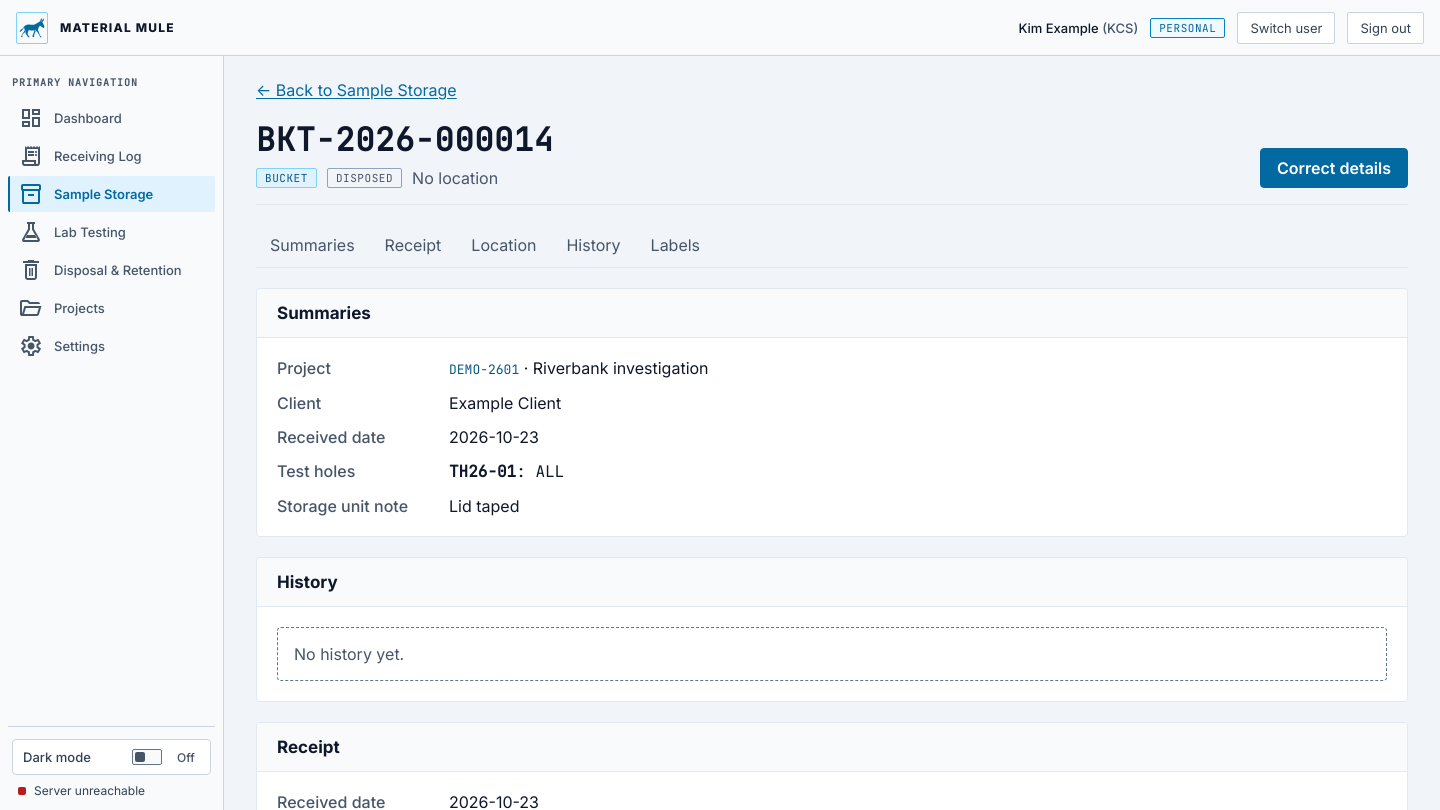
Test: storage unit corrections (MM-T13) › BUG-014: a disposed unit offers only its received date and note
Click the button "Correct details". click: (1334, 168)
box: [1260,148,1408,188]
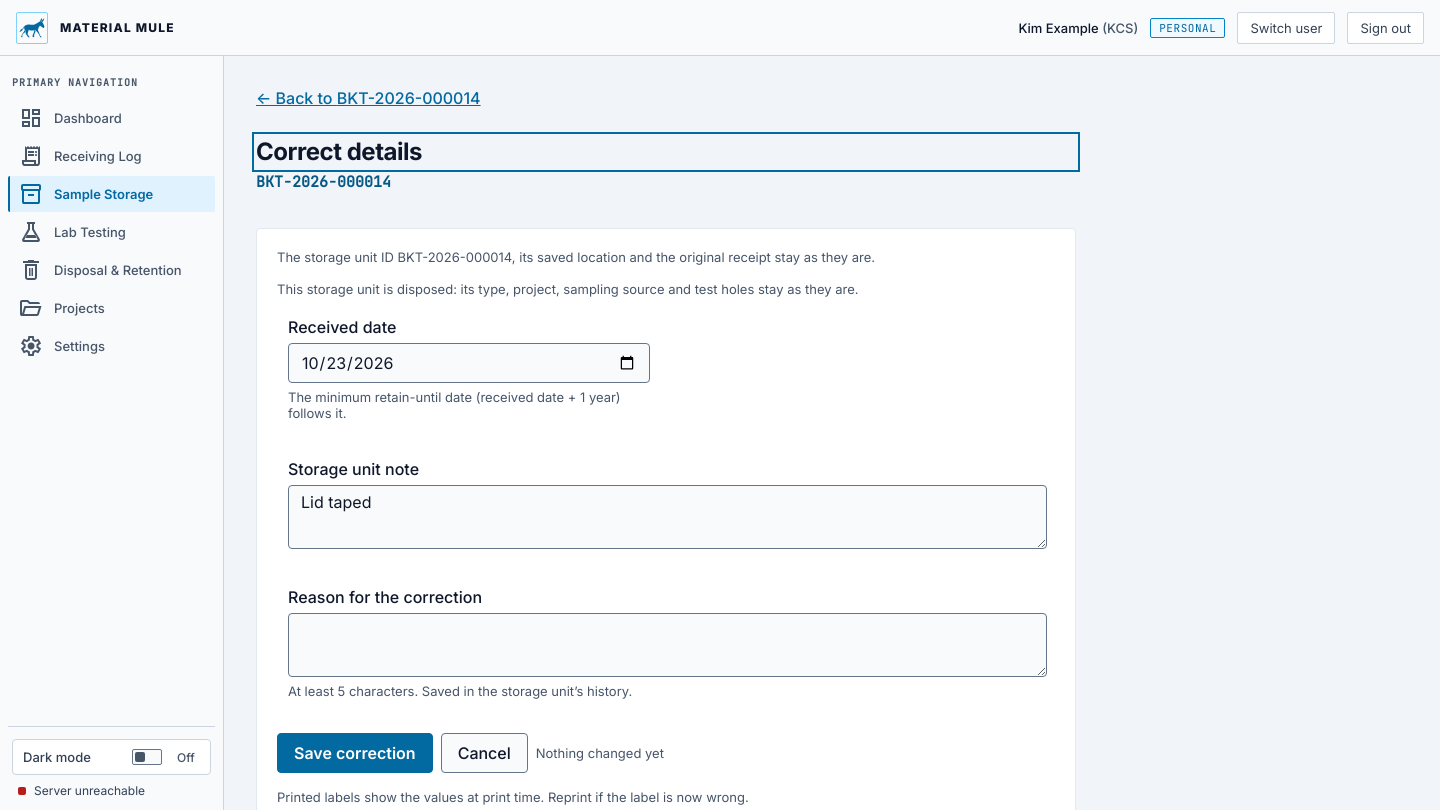
Expected: the text "This storage unit is disposed: its type, project, sampling source and test holes stay as they are." is shown, [277,281,858,297]
Expected: the date field labelled "Received date" is shown, [288,343,650,383]
Replace the text in the text box labelled "Storage unit note" with "Lid replaced". click: (668, 517)
box: [288,485,1047,549]
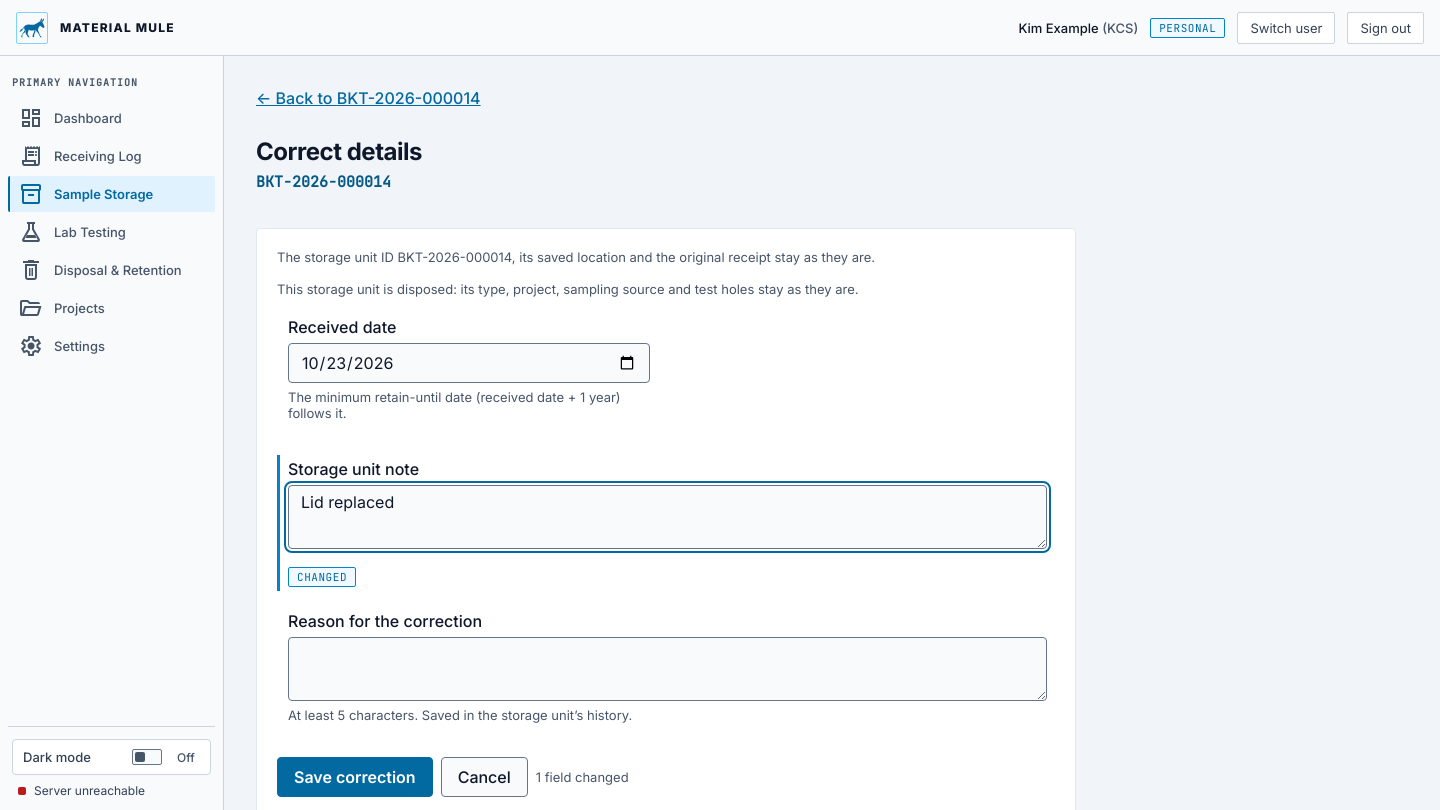
Type "lid was swapped" into the text box labelled "Reason for the correction". click: (668, 669)
box: [288,637,1047,701]
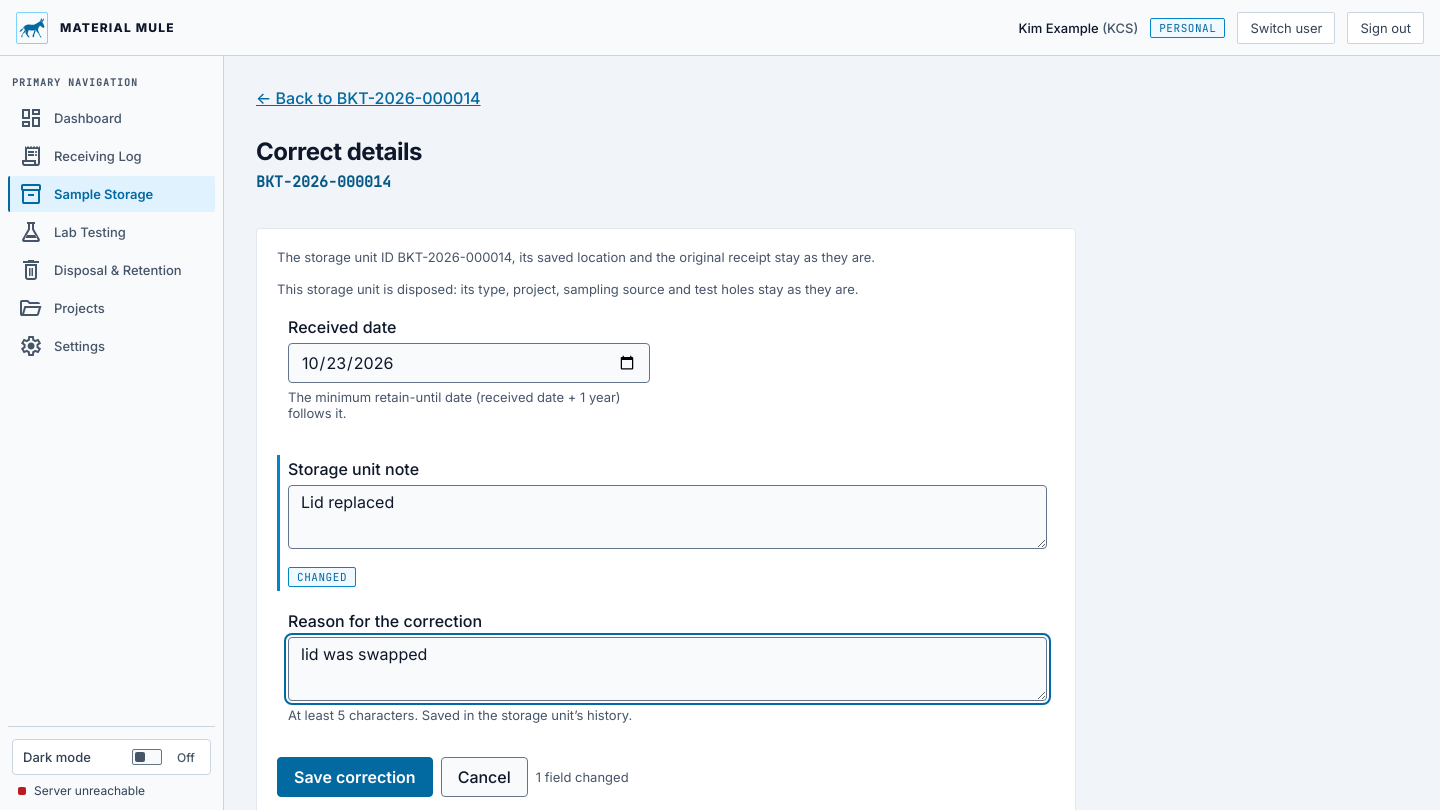
Click the button "Save correction". click: (355, 777)
box: [277,757,433,797]
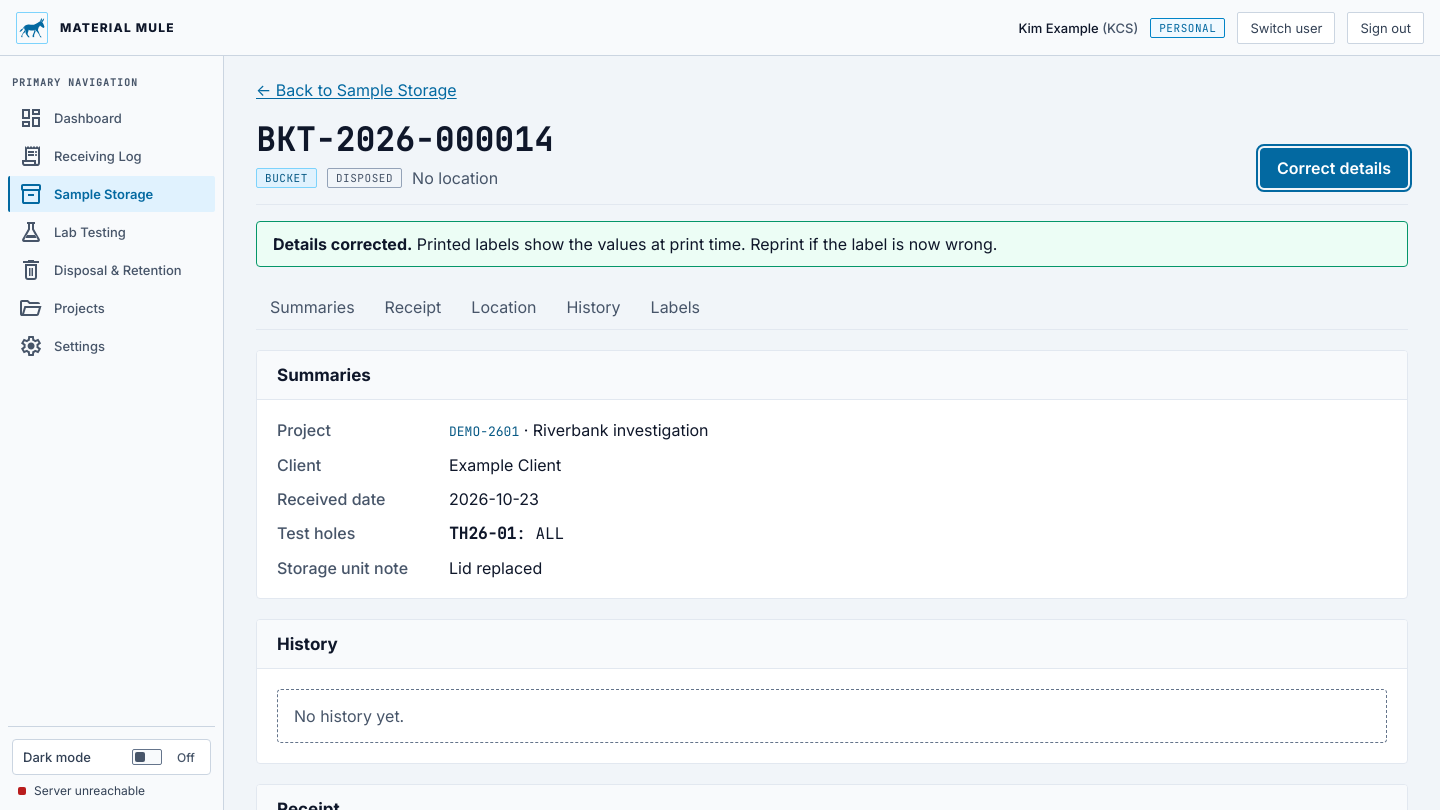
Expected: the text "Details corrected." is shown, [273,234,412,254]
